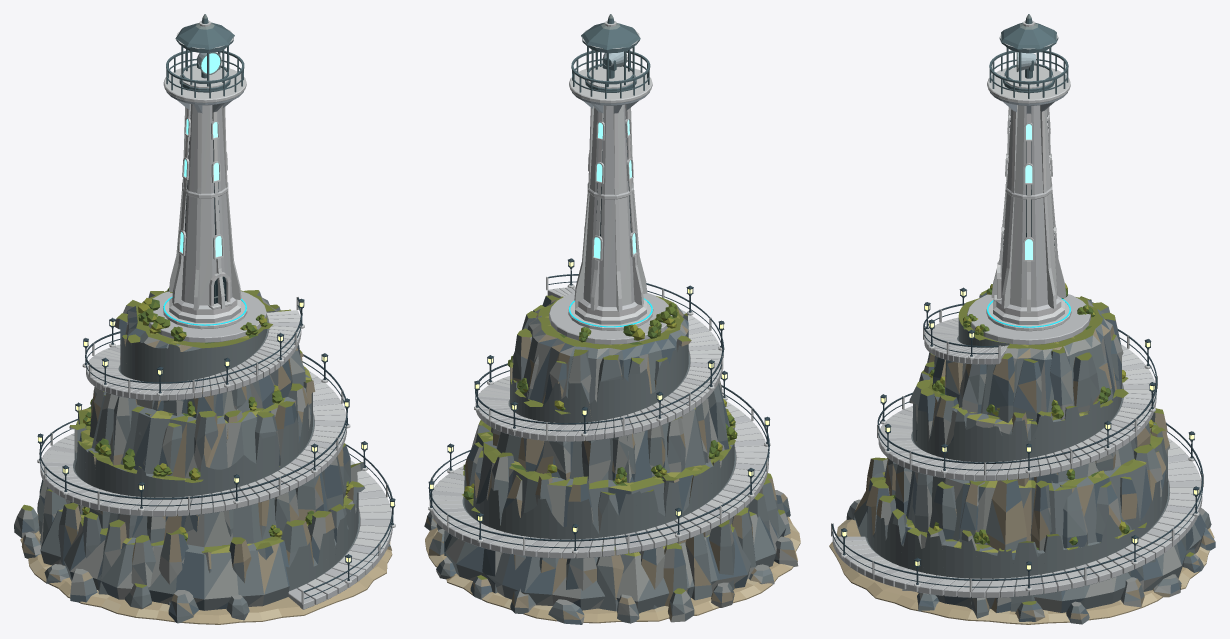
Rendered from signal.glb.
The picture shows the model from 3 angles, left to right: view 1: azimuth 30°, elevation 25°; view 2: azimuth 150°, elevation 25°; view 3: azimuth 270°, elevation 25°; orthographic projection.
Visible parts, largest first — view 1: Static_MainIsland, Static_Lighthouse, Static_Lantern; view 2: Static_MainIsland, Static_Lighthouse, Static_Lantern; view 3: Static_MainIsland, Static_Lighthouse, Static_Lantern.
Part boxes in pixels (bbox=[...]): Static_MainIsland: bbox=[14, 287, 395, 624]; Static_Lighthouse: bbox=[163, 50, 246, 322]; Static_Lantern: bbox=[175, 14, 234, 92]; Static_MainIsland: bbox=[424, 258, 800, 624]; Static_Lighthouse: bbox=[569, 50, 652, 324]; Static_Lantern: bbox=[581, 14, 640, 92]; Static_MainIsland: bbox=[829, 283, 1215, 624]; Static_Lighthouse: bbox=[987, 50, 1070, 324]; Static_Lantern: bbox=[999, 14, 1058, 92].
Size of the model in its own units: 9.16 by 14.33 by 9.42.
